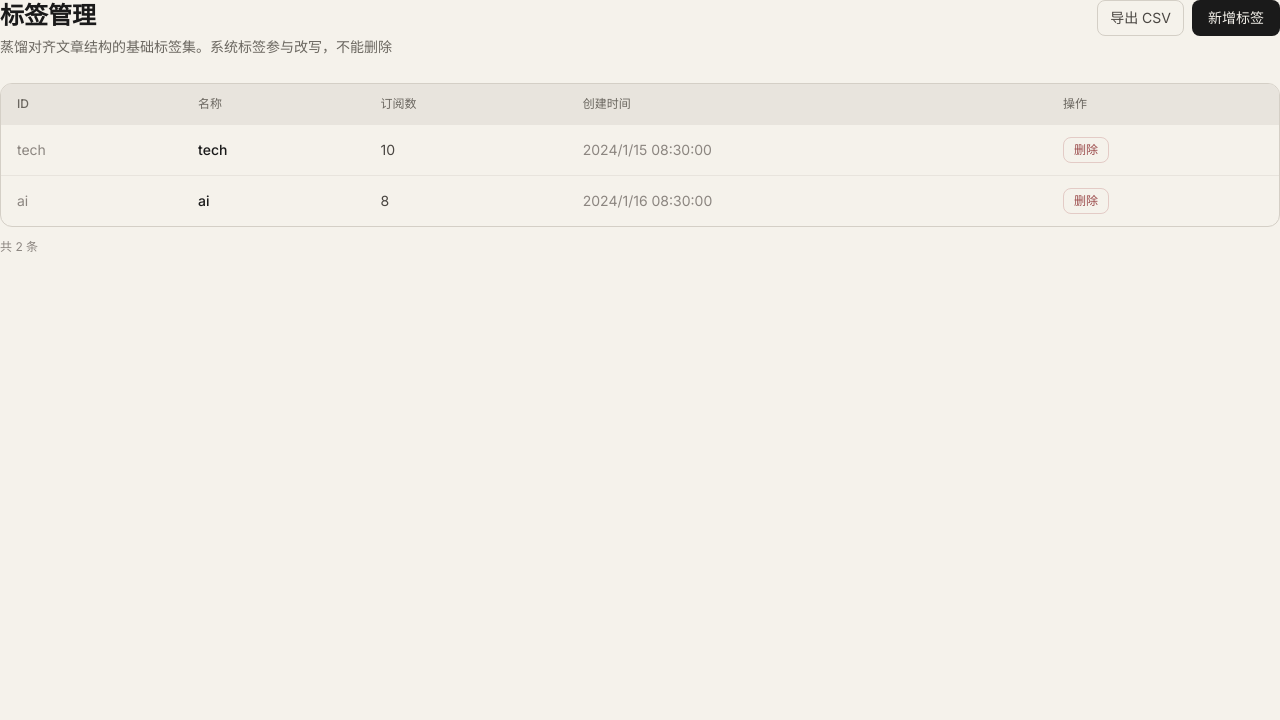
Tags › 点击新增按钮 → 打开 Modal + 看到 placeholder
What coordinates should you click on to do the following:
click the button "新增标签"
I would click on:
 (1236, 18)
Its box is [1192,0,1279,36].
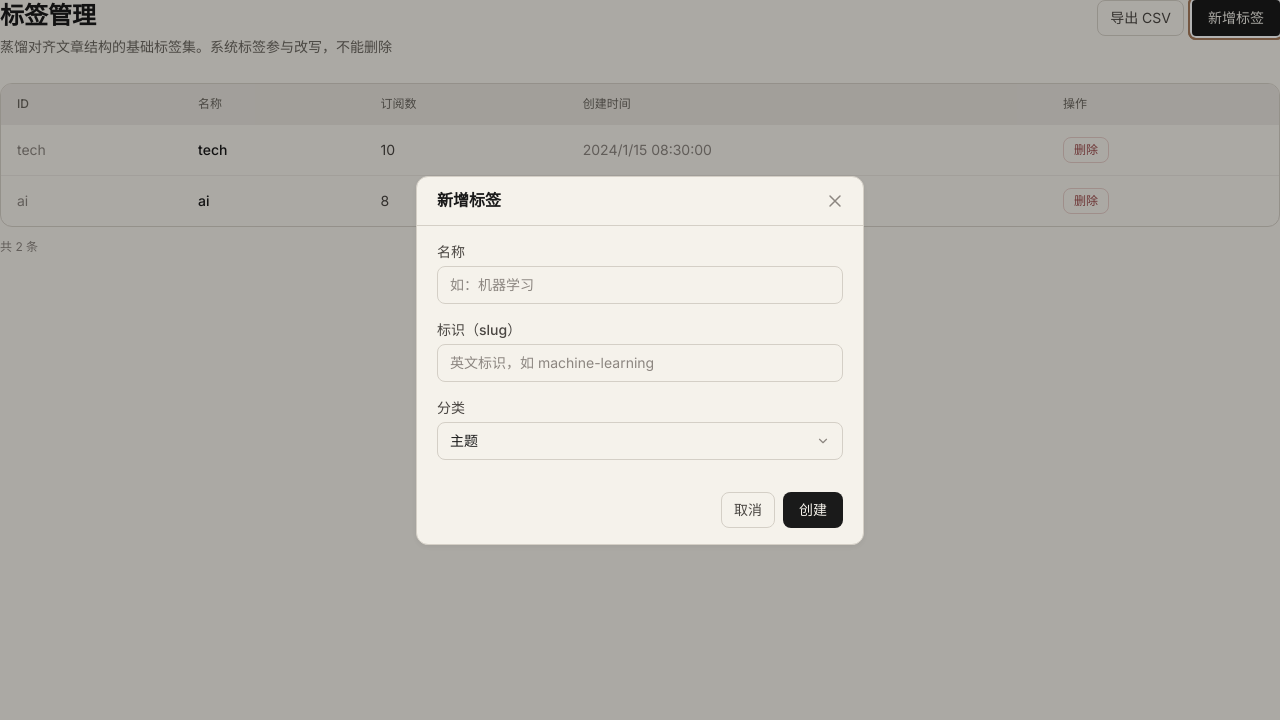
Now the field with placeholder "如：机器学习" is shown, box [437,266,843,304]
Now the field with placeholder "英文标识，如 machine-learning" is shown, box [437,344,843,382]
